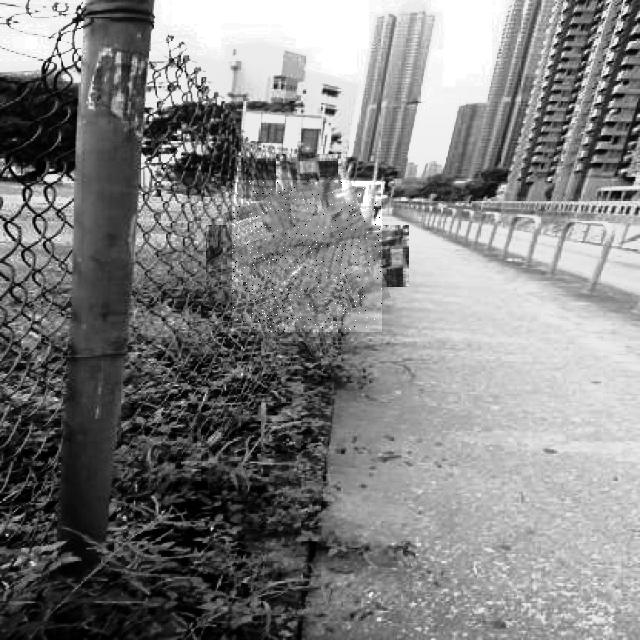anomaly-fence: (232, 180, 382, 332)
